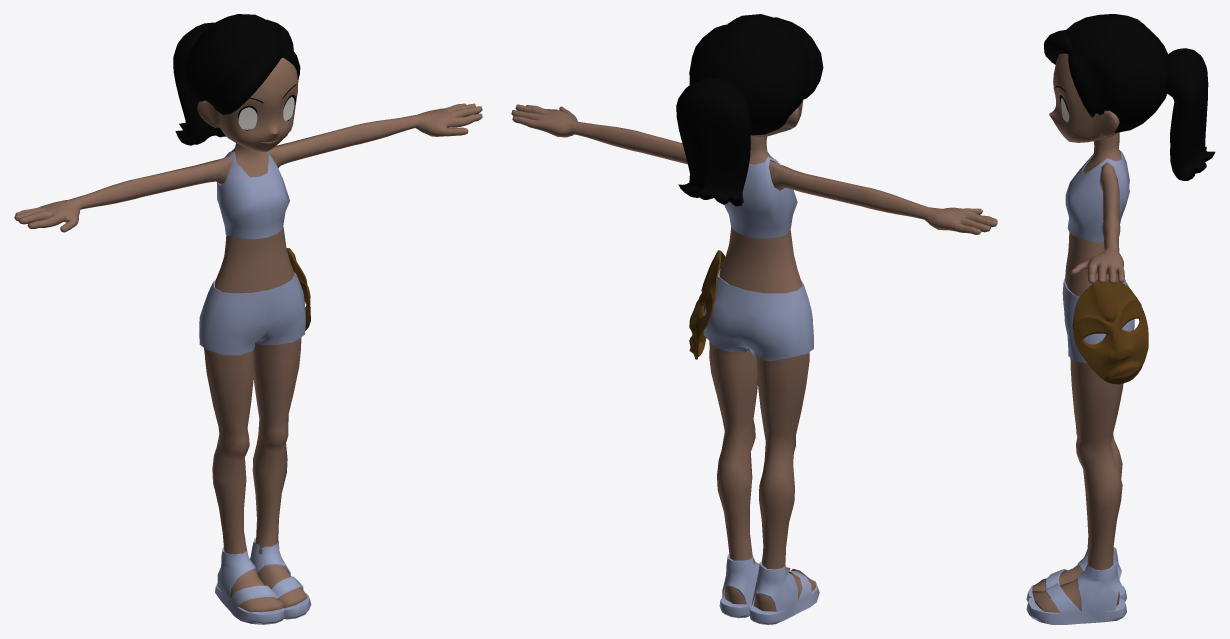
File: Lapis.fbx
The picture shows the model from 3 angles, left to right: view 1: azimuth 30°, elevation 25°; view 2: azimuth 150°, elevation 25°; view 3: azimuth 270°, elevation 25°; orthographic projection. The views are drawn at different scales.
Parts seen in each view (by area): view 1: Lapis; view 2: Lapis; view 3: Lapis.
Part boxes in pixels (box(x1,y1,x2,y2)): Lapis: box(14, 14, 482, 624); Lapis: box(511, 14, 997, 624); Lapis: box(1026, 14, 1215, 624).
Bounding box in the file's own units: 124 × 147 × 42.78.
7 materials, 7 textured.
